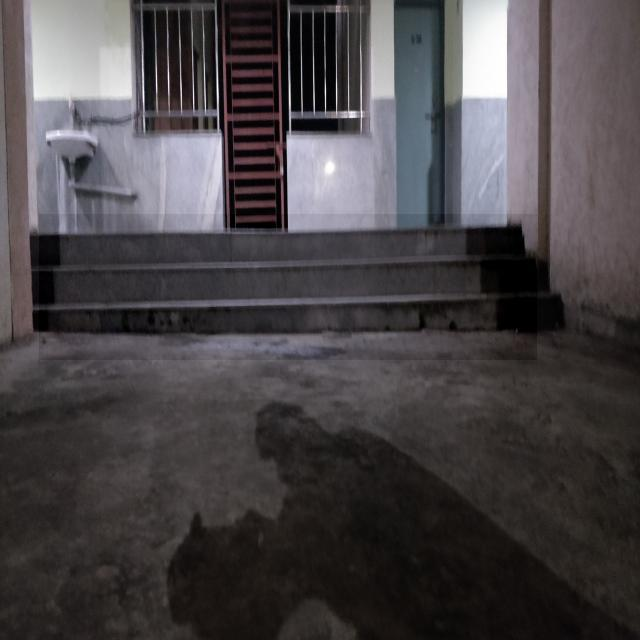stair: (39, 214, 537, 360)
